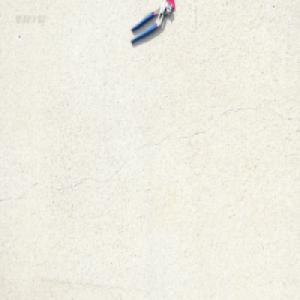Label: (164, 0, 178, 11)
Pliers: (130, 1, 172, 44)
